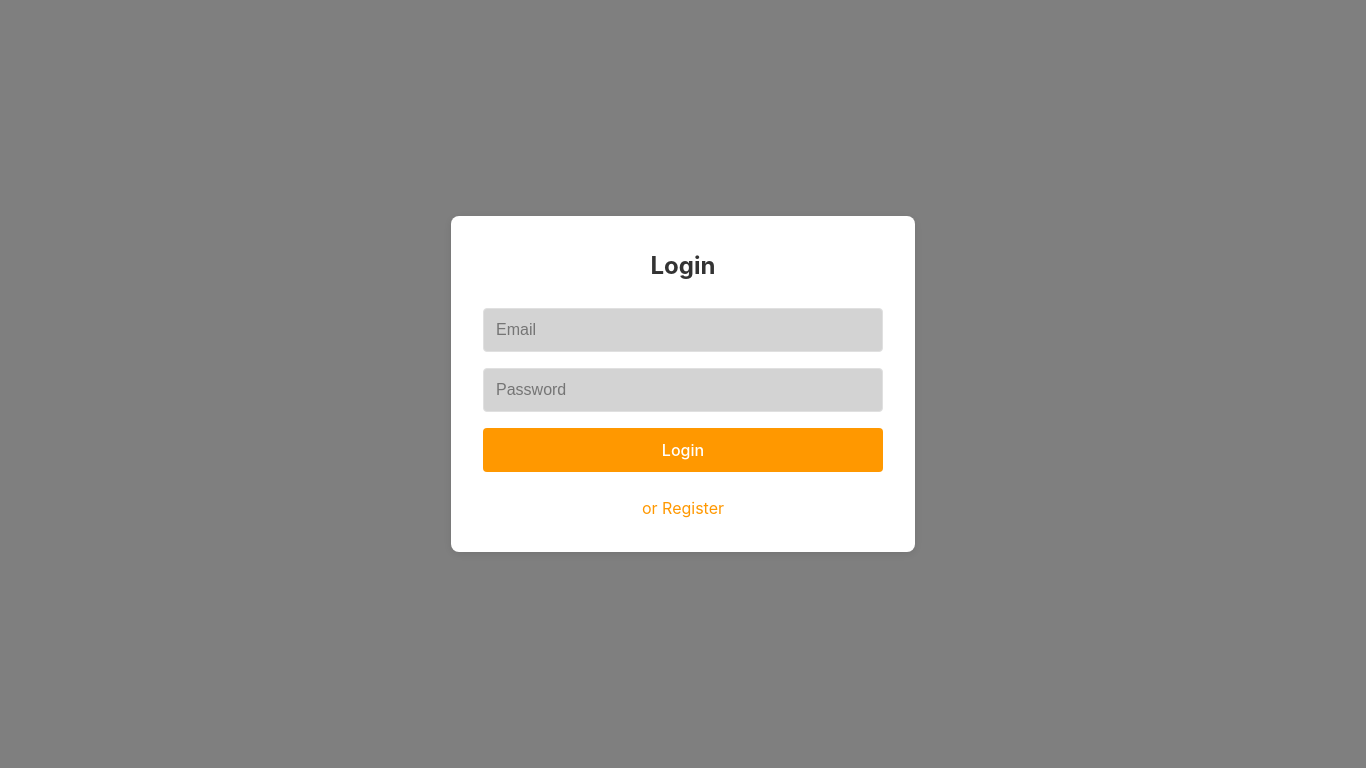
Test: AuthModal Component › displays error message on login failure
The image size is (1366, 768).
Type "test@example.com" into the field with placeholder "Email" at (683, 330), box [483,308,883,352]
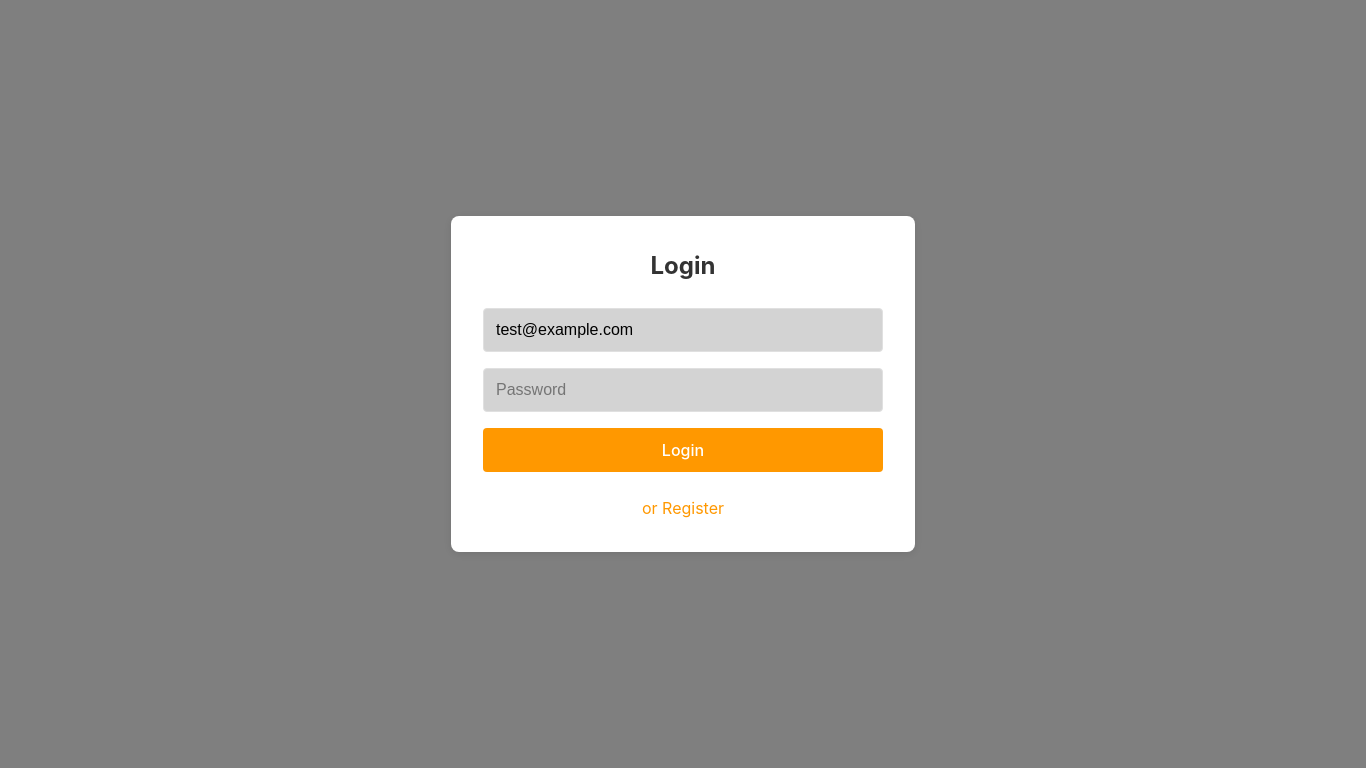
Type "wrong-password" into the password field with placeholder "Password" at (683, 390), box [483,368,883,412]
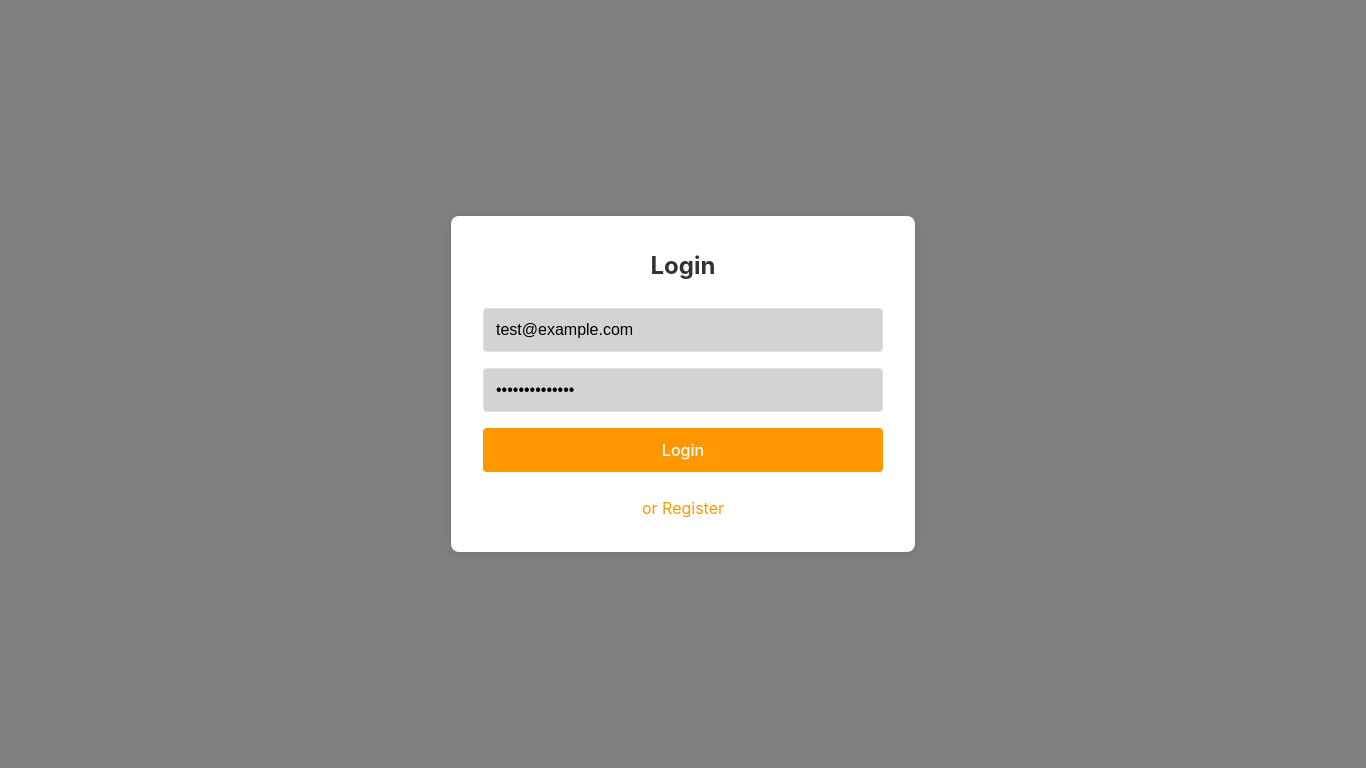
Click the button "Login" at (683, 450), box [483,428,883,472]
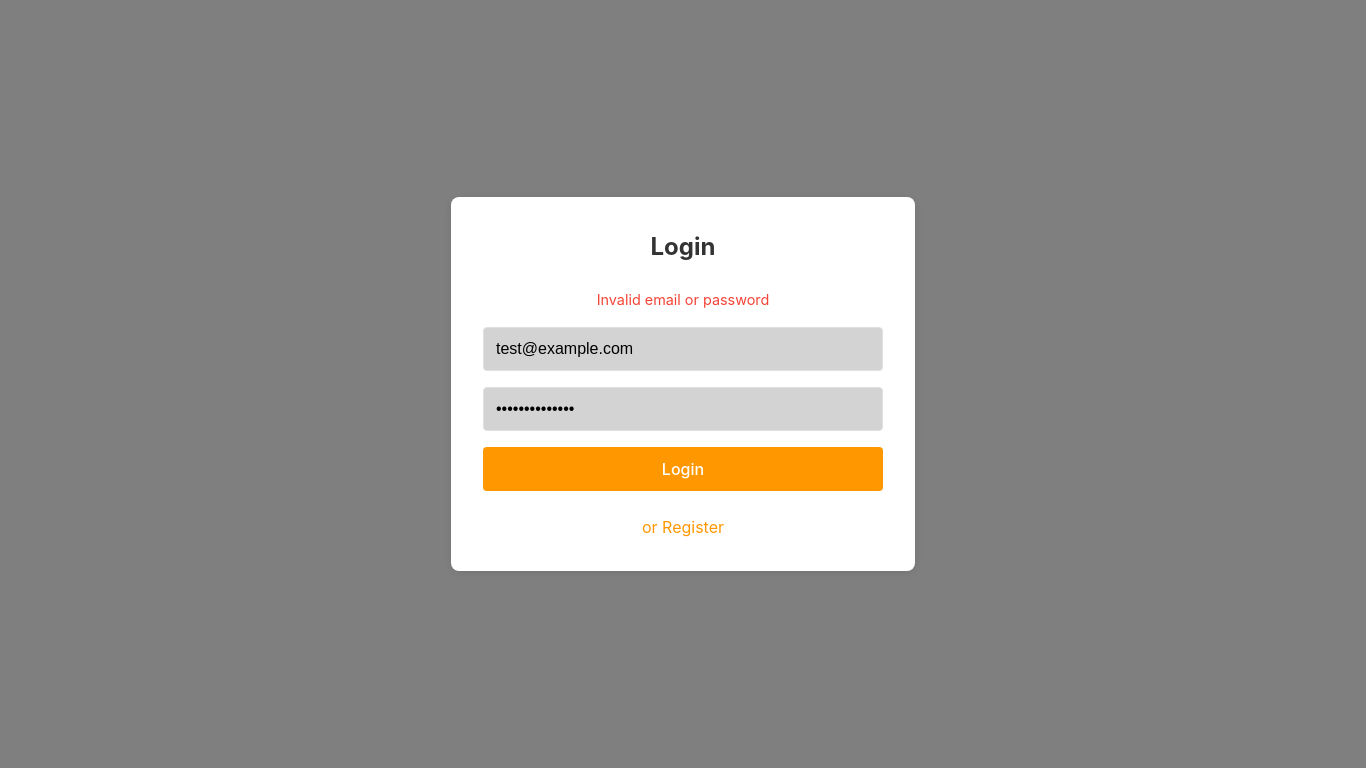
Now the text "Invalid email or password" is shown, box [597,291,769,308]
